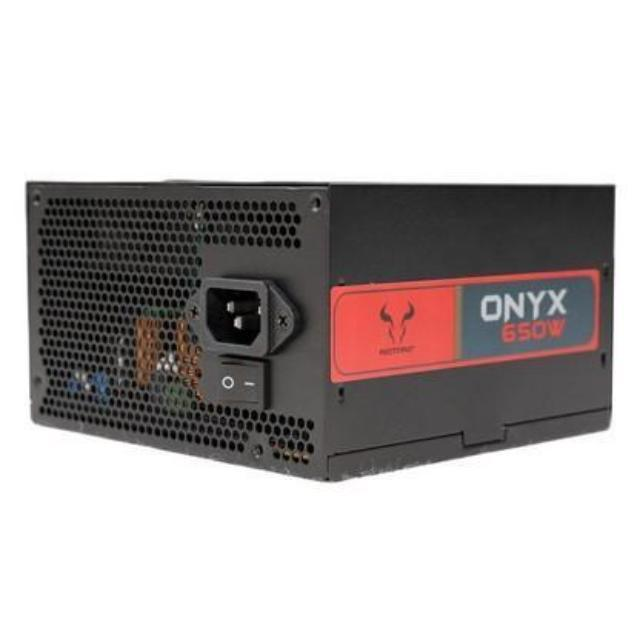PSU: (16, 136, 630, 490)
